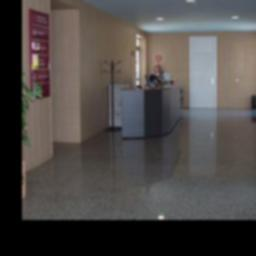Bote de Basura: (102, 57, 123, 134), (251, 93, 256, 111)
Otro Obstaculo: (189, 36, 216, 108)
